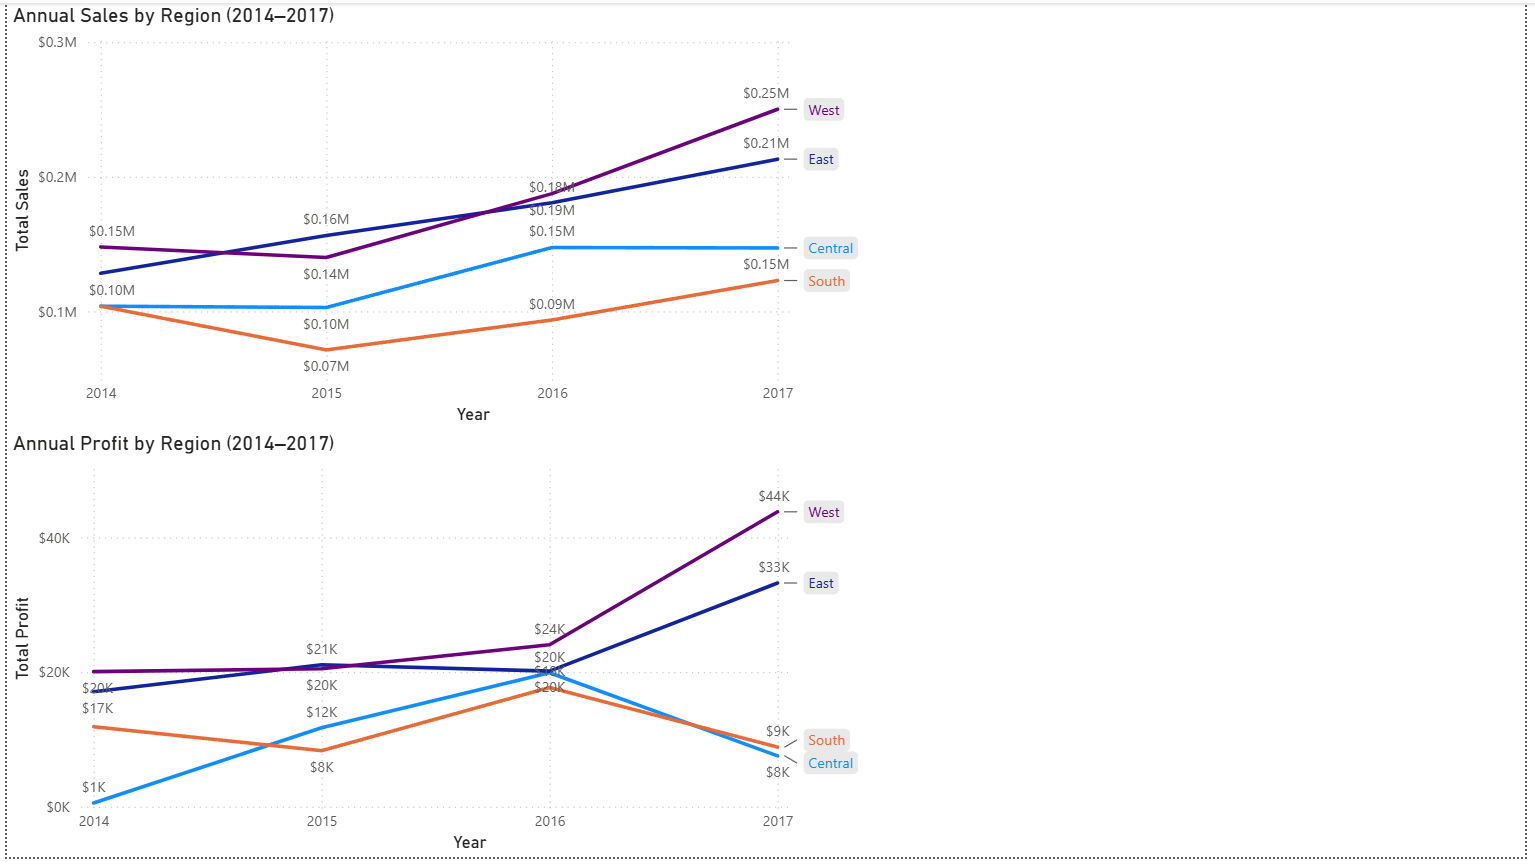

This screenshot's page, from the dashboard's own definition file:
{"tool":"powerbi","page":{"name":"Regional Performance","canvas":[1280,720],"ordinal":8},"visuals":[{"type":"lineChart","title":"Annual Profit by Region (2014–2017)","fields":{"Series":["RawData.Region"],"Category":["RawData.Year"],"Y":["Sum(RawData.Profit)"]},"box":[0,360.7,725.4,359.7],"z":0},{"type":"lineChart","title":"Annual Sales by Region (2014–2017)","fields":{"Category":["RawData.Year"],"Y":["Sum(RawData.Sales)"],"Series":["RawData.Region"]},"box":[0,0,725.4,359.7],"z":1000}]}

Visuals, with their boxes in screenshot pixels (x1, y1, x2, y2), scaled from the page's 1280x720 canvas onto the 1535x864 screenshot:
"Annual Profit by Region (2014–2017)" lineChart: (x1=0, y1=433, x2=870, y2=863)
"Annual Sales by Region (2014–2017)" lineChart: (x1=0, y1=0, x2=870, y2=432)
